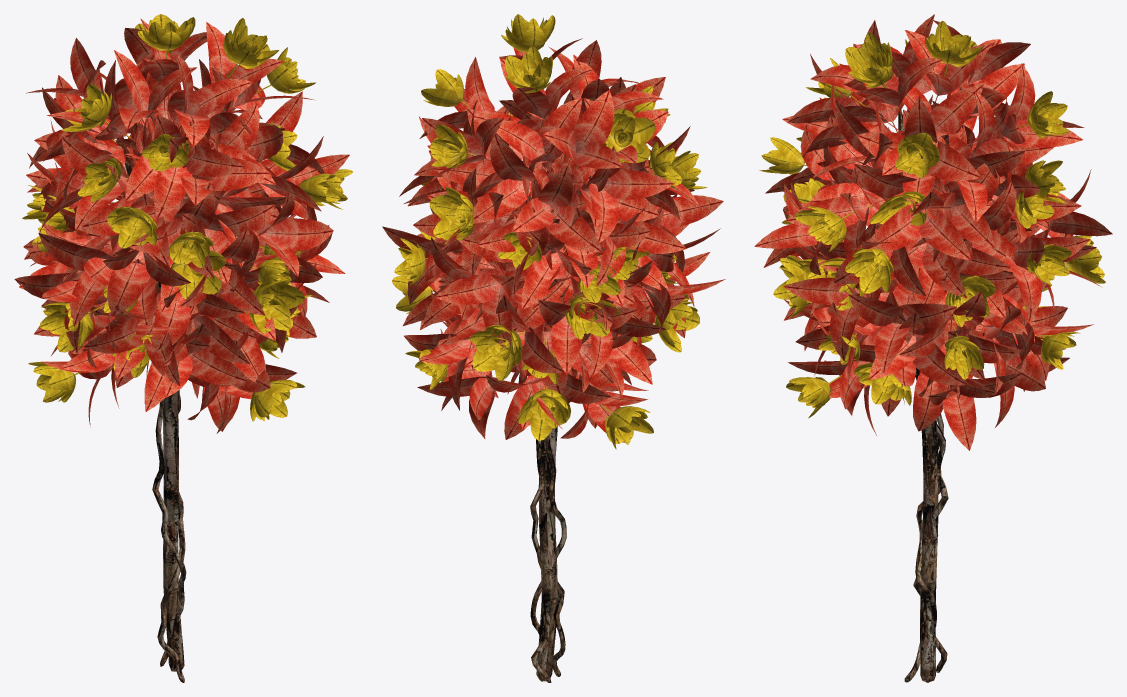
3 views of the same model, side by side, from view 1: azimuth 30°, elevation 25°; view 2: azimuth 150°, elevation 25°; view 3: azimuth 270°, elevation 25° (orthographic). The views are drawn at different scales.
Visible parts, largest first — view 1: Leaves, Flowers, TrunkandBranches; view 2: Leaves, Flowers, TrunkandBranches; view 3: Leaves, Flowers, TrunkandBranches.
Boxes of the visible parts, x1,y1,x2,y2 form: Leaves: (14,18,349,433); Flowers: (22,14,352,421); TrunkandBranches: (124,160,215,682); Leaves: (382,38,725,442); Flowers: (392,14,707,449); TrunkandBranches: (526,162,621,682); Leaves: (754,14,1112,450); Flowers: (759,21,1105,418); TrunkandBranches: (898,107,948,682).
Bounding box in the file's own units: 27.22 × 55.86 × 27.3.
